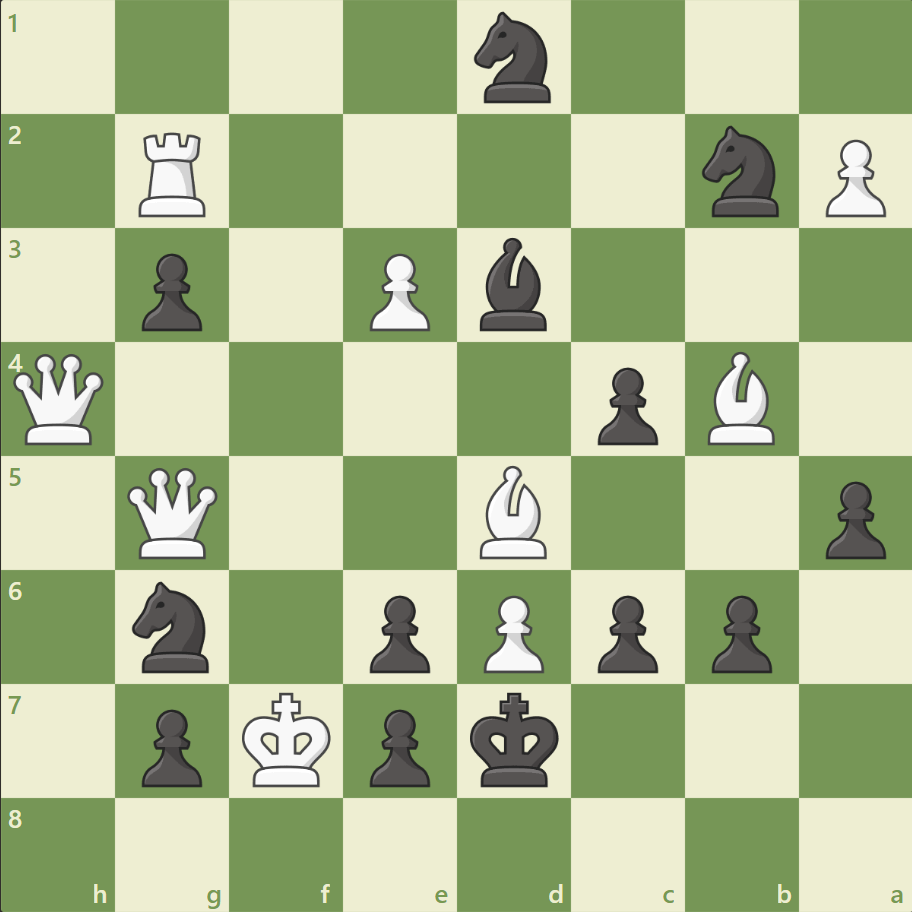B: (471, 460, 555, 563), (698, 347, 782, 449)
K: (238, 685, 338, 793)
P: (474, 586, 549, 677), (361, 246, 435, 337), (815, 132, 889, 223)
Q: (10, 349, 109, 449), (124, 463, 223, 562)
R: (133, 125, 215, 222)
b: (471, 233, 555, 336)
k: (465, 685, 565, 793)
n: (124, 575, 222, 677), (465, 7, 562, 110), (692, 121, 789, 223)
p: (133, 700, 208, 791), (701, 586, 776, 677), (133, 246, 208, 337), (361, 700, 435, 791), (588, 586, 662, 677), (361, 586, 435, 677), (815, 473, 889, 564), (588, 359, 662, 450)
